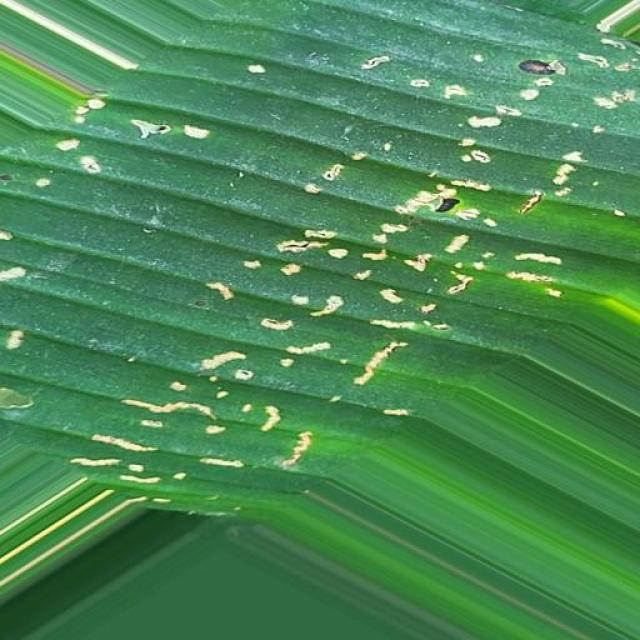Black_rot: (6, 6, 640, 532)
